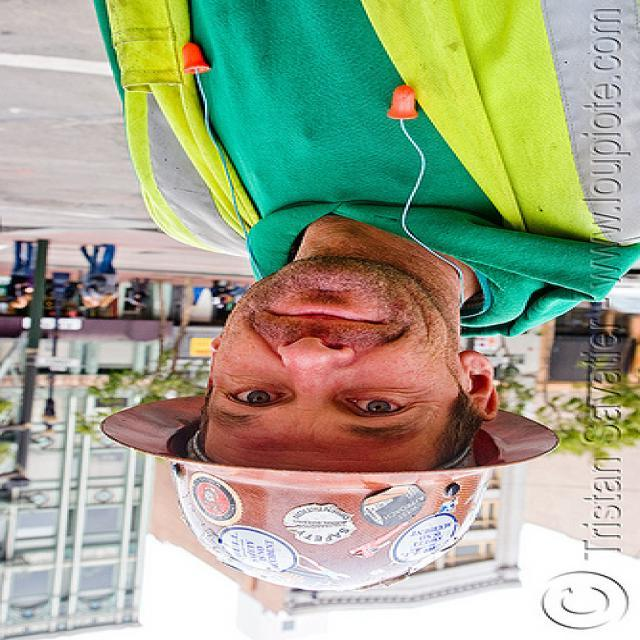safetyhelmet: (98, 359, 572, 580)
